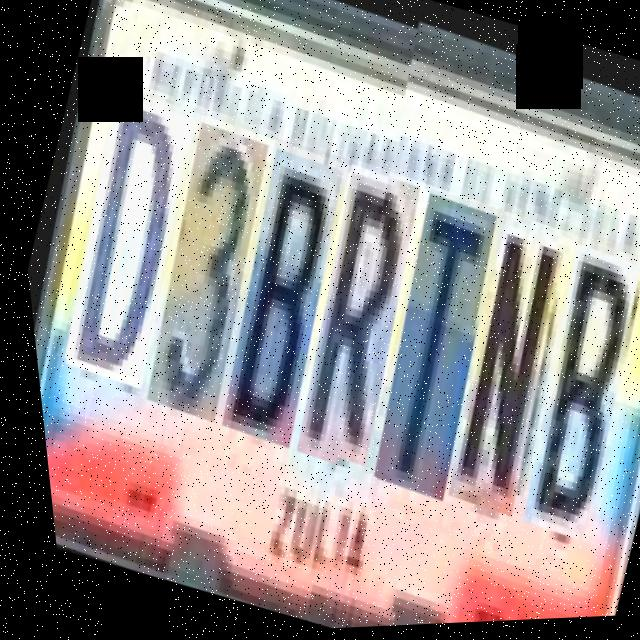3: (104, 112, 297, 416)
B: (179, 138, 372, 442), (477, 240, 640, 542)
D: (25, 83, 222, 383)
N: (404, 215, 590, 517)
R: (254, 164, 446, 468)
T: (330, 190, 525, 501)
